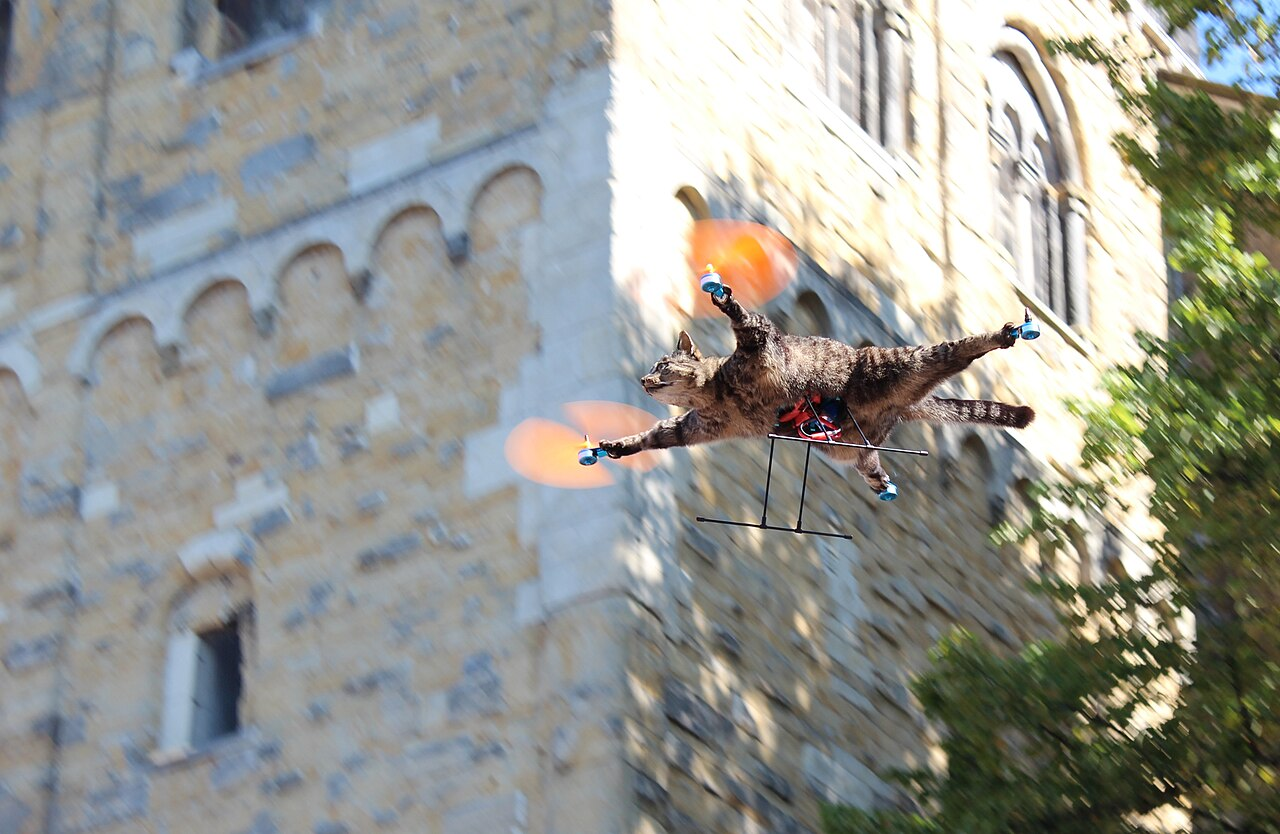drone: (493, 217, 1069, 530)
